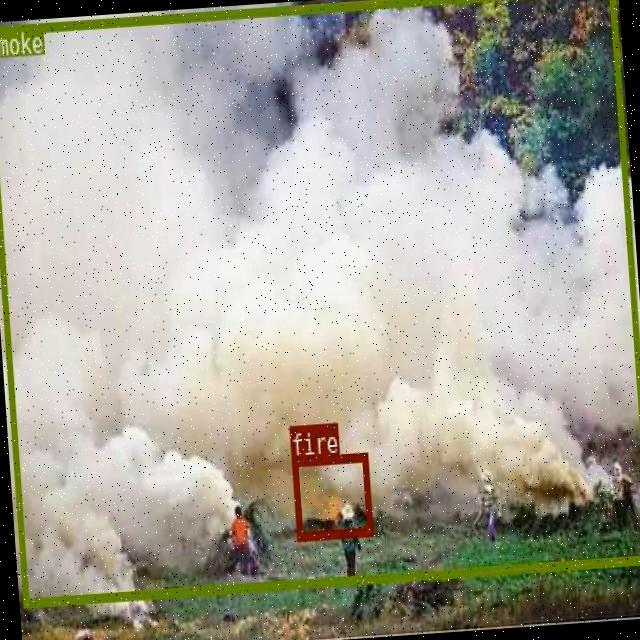fire: (290, 450, 371, 540)
smoke: (0, 0, 640, 604)
